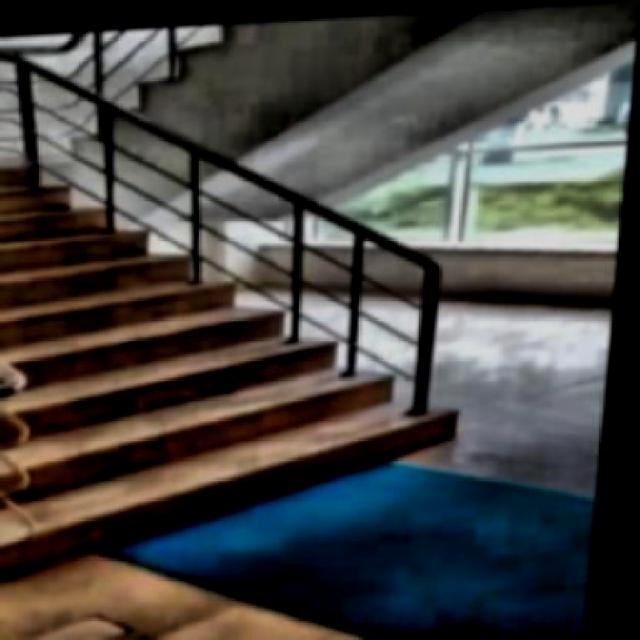stair: (1, 95, 477, 582)
